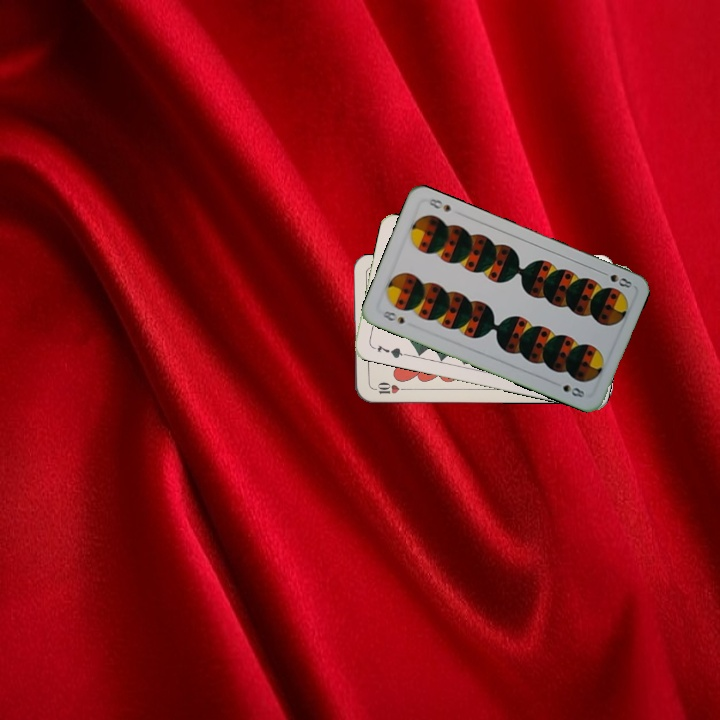G7: (368, 341, 408, 361)
H10: (368, 379, 409, 396)
S8: (596, 267, 635, 291), (378, 306, 407, 327)
